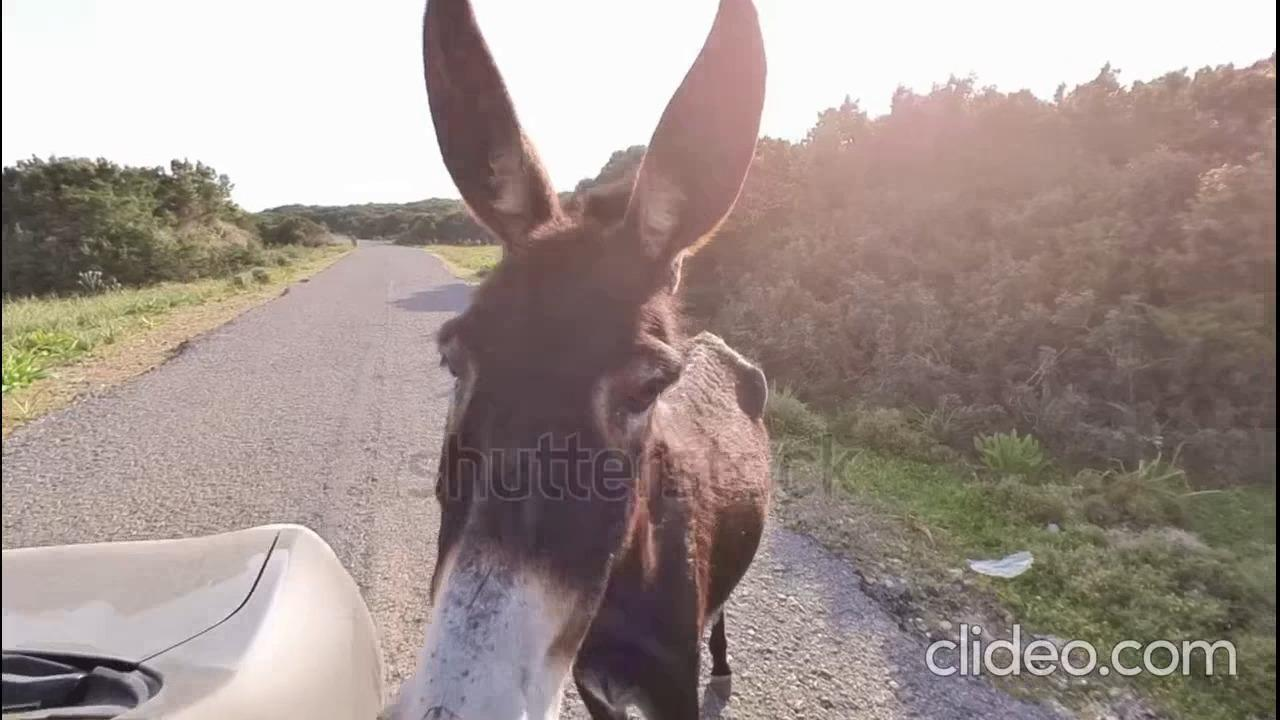Donkey: (381, 0, 776, 720)
